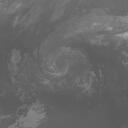cyclone: (36, 40, 90, 94)
